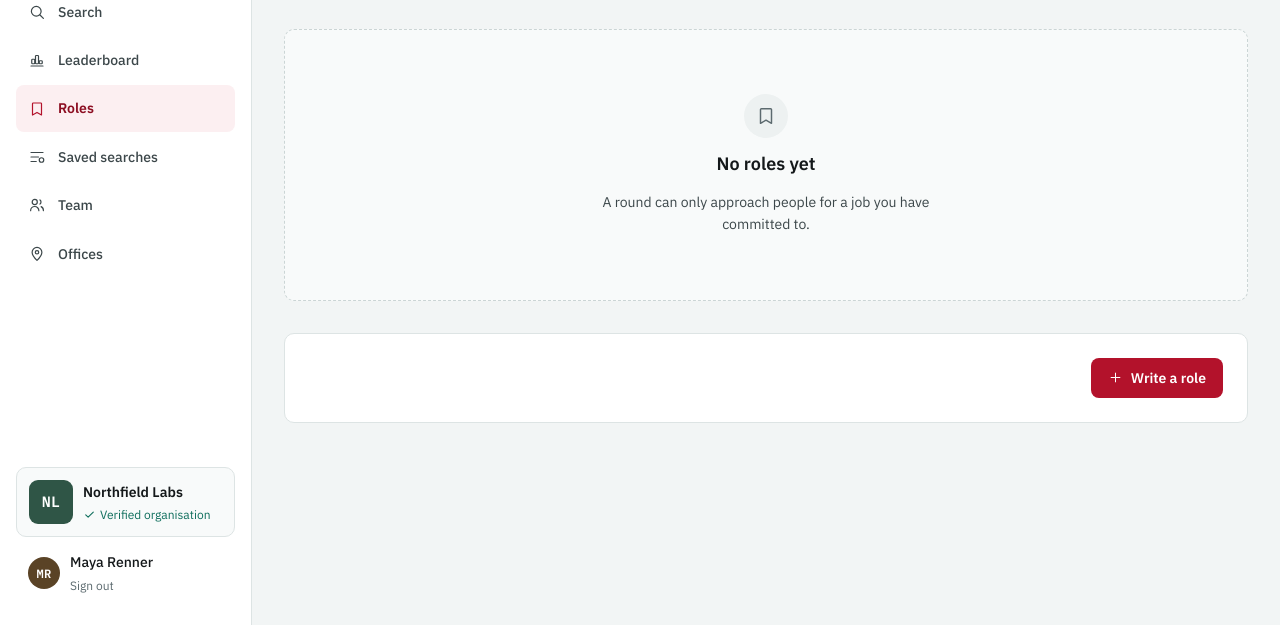
Test: the app renders › offers only a draft to a member who may not open
Click the button "Write a role": (1157, 378) [1091,358,1223,398]
(page scrolled)
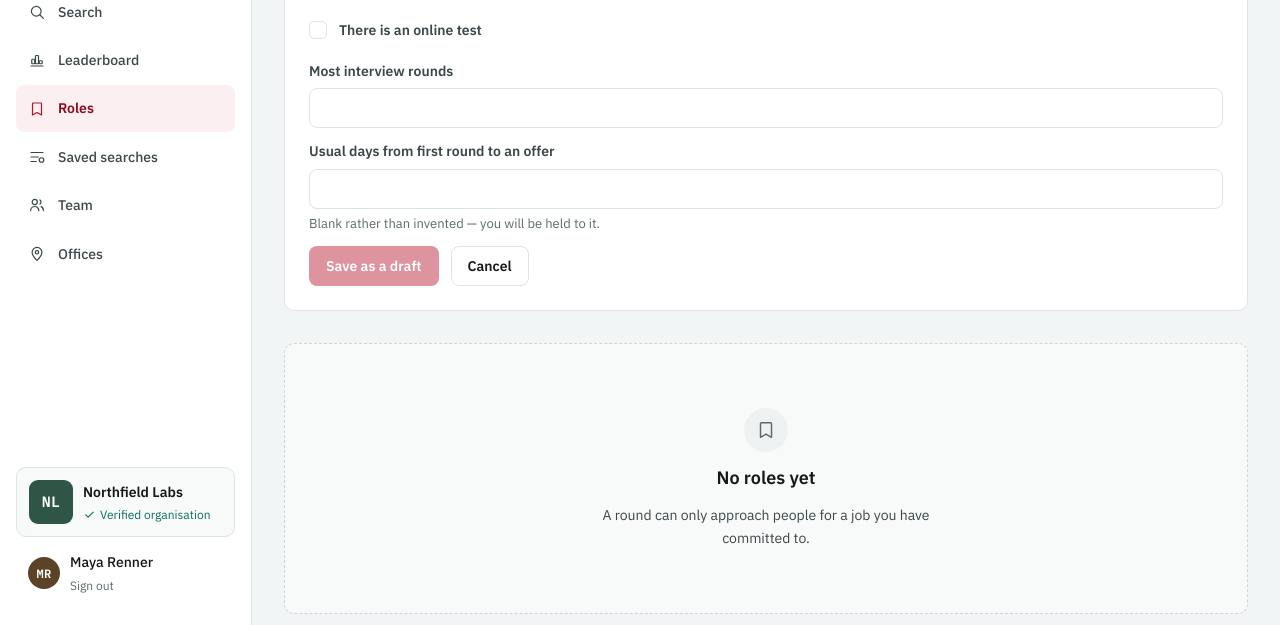
Check: the button "Save as a draft" is shown, box [309,246,438,286]
